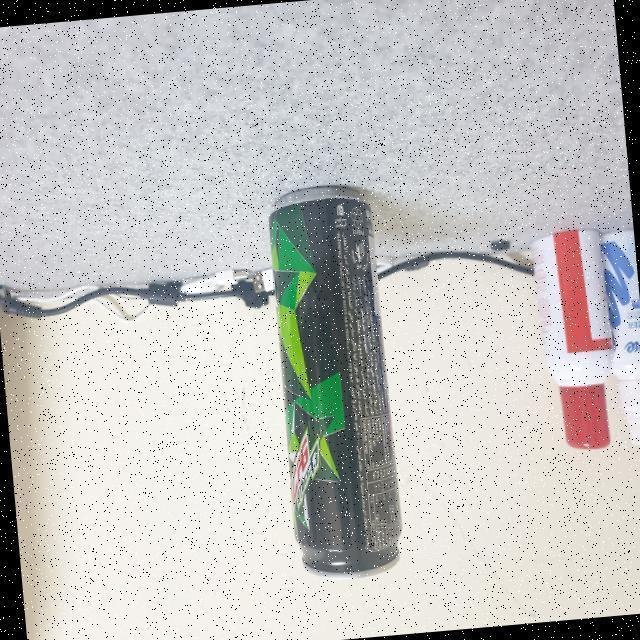can: (251, 175, 414, 597)
